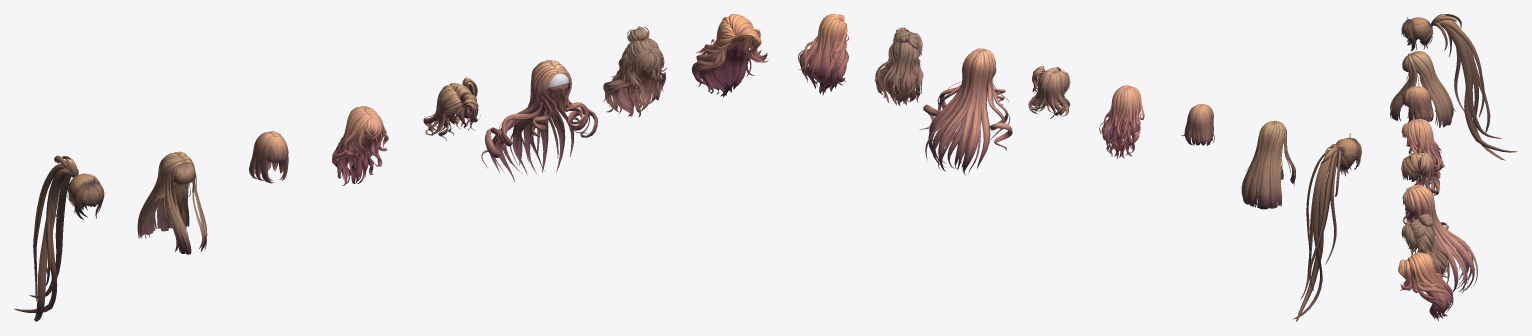
File: hairstyles.glb
The picture shows the model from 3 angles, left to right: view 1: azimuth 30°, elevation 25°; view 2: azimuth 150°, elevation 25°; view 3: azimuth 270°, elevation 25°; orthographic projection. The views are drawn at different scales.
Visible parts, largest first — view 1: Object_14, Object_6, Object_8, Object_20, Object_18, Object_10, Object_12, Object_4; view 2: Object_14, Object_6, Object_8, Object_20, Object_18, Object_10, Object_12, Object_4; view 3: Object_6, Object_14, Object_8, Object_20, Object_18, Object_10, Object_12, Object_4.
Boxes of the visible parts, x1,y1,x2,y2 form: Object_14: [481, 60, 597, 181]; Object_6: [14, 155, 105, 321]; Object_8: [137, 151, 207, 254]; Object_20: [691, 14, 768, 97]; Object_18: [603, 26, 666, 117]; Object_10: [332, 106, 388, 185]; Object_12: [423, 76, 480, 141]; Object_4: [249, 131, 288, 183]; Object_14: [919, 48, 1012, 175]; Object_6: [1292, 133, 1361, 321]; Object_8: [1241, 120, 1295, 209]; Object_20: [798, 14, 848, 95]; Object_18: [874, 27, 923, 105]; Object_10: [1099, 85, 1144, 158]; Object_12: [1028, 64, 1070, 118]; Object_4: [1181, 104, 1214, 145]; Object_6: [1401, 14, 1517, 160]; Object_14: [1403, 184, 1477, 293]; Object_8: [1390, 51, 1455, 127]; Object_20: [1398, 252, 1453, 321]; Object_18: [1401, 213, 1448, 274]; Object_10: [1401, 119, 1444, 178]; Object_12: [1401, 152, 1440, 195]; Object_4: [1402, 86, 1433, 121].
Size of the model in its own units: 374 by 101 by 80.25.
9 materials, 8 textured.
